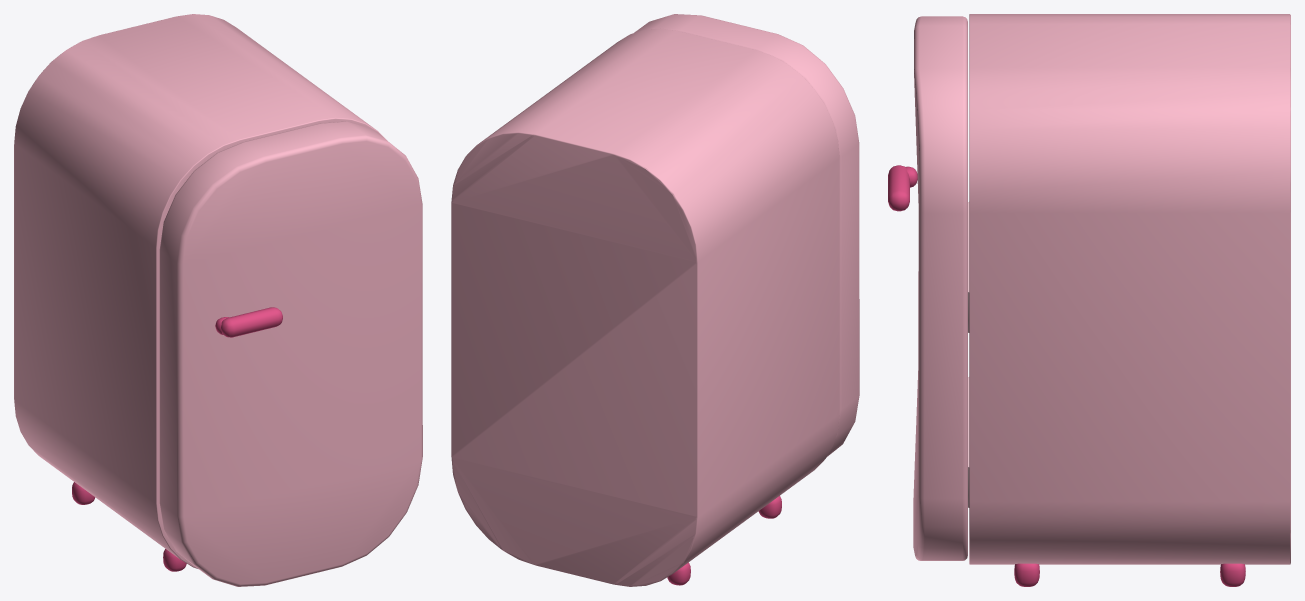
Rendered from frigobar_redondo_rosa.glb.
3 views of the same model, side by side, from view 1: azimuth 30°, elevation 25°; view 2: azimuth 150°, elevation 25°; view 3: azimuth 270°, elevation 25° (orthographic). The views are drawn at different scales.
Parts seen in each view (by area): view 1: porta, frigobar_redondo_rosa; view 2: frigobar_redondo_rosa, porta; view 3: frigobar_redondo_rosa, porta.
Boxes of the visible parts, bbox=[...] form: porta: bbox=[159, 121, 422, 586]; frigobar_redondo_rosa: bbox=[14, 14, 387, 571]; frigobar_redondo_rosa: bbox=[451, 28, 839, 586]; porta: bbox=[634, 14, 859, 457]; frigobar_redondo_rosa: bbox=[969, 14, 1290, 586]; porta: bbox=[888, 16, 969, 560].
Bounding box in the file's own units: 0.5 × 0.85 × 0.626.
Materials: 1 (1 with a texture image).
